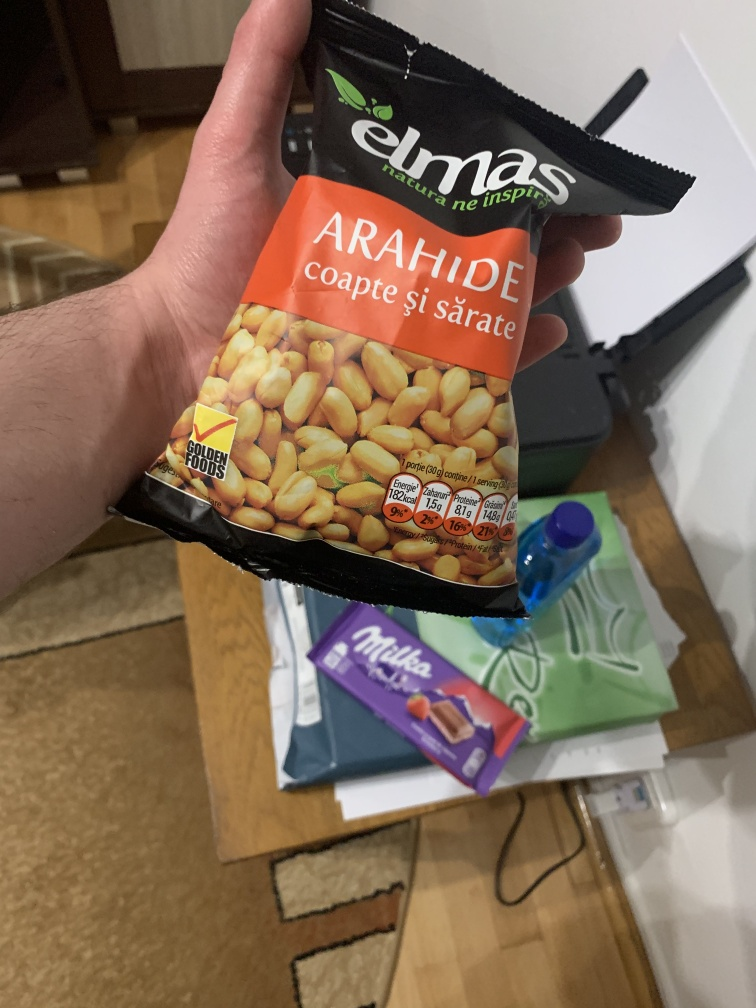milka: (299, 602, 565, 822)
peanuts: (122, 4, 687, 618)
